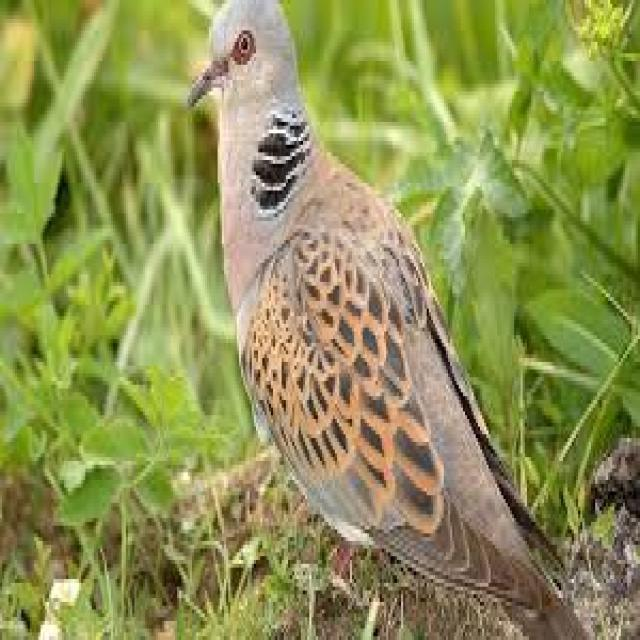pigeon: (179, 0, 542, 640)
